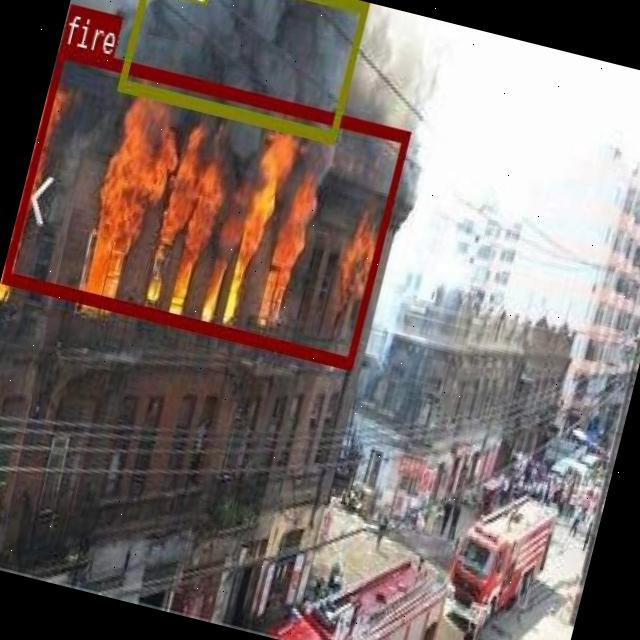fire: (1, 42, 408, 366)
smoke: (116, 0, 367, 142)
